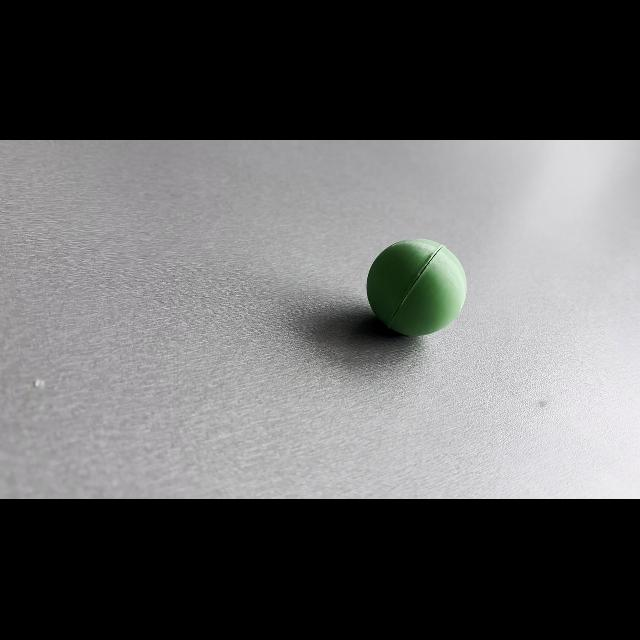objects: (354, 235, 476, 339)
